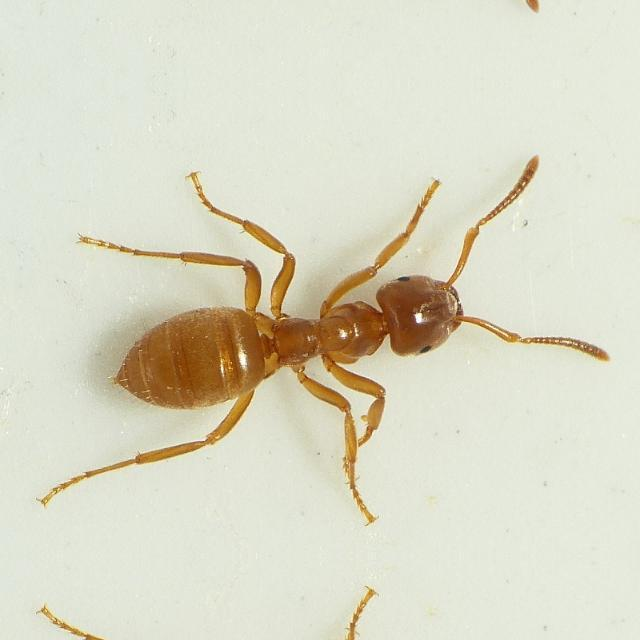Myrmica: (81, 190, 511, 460)
